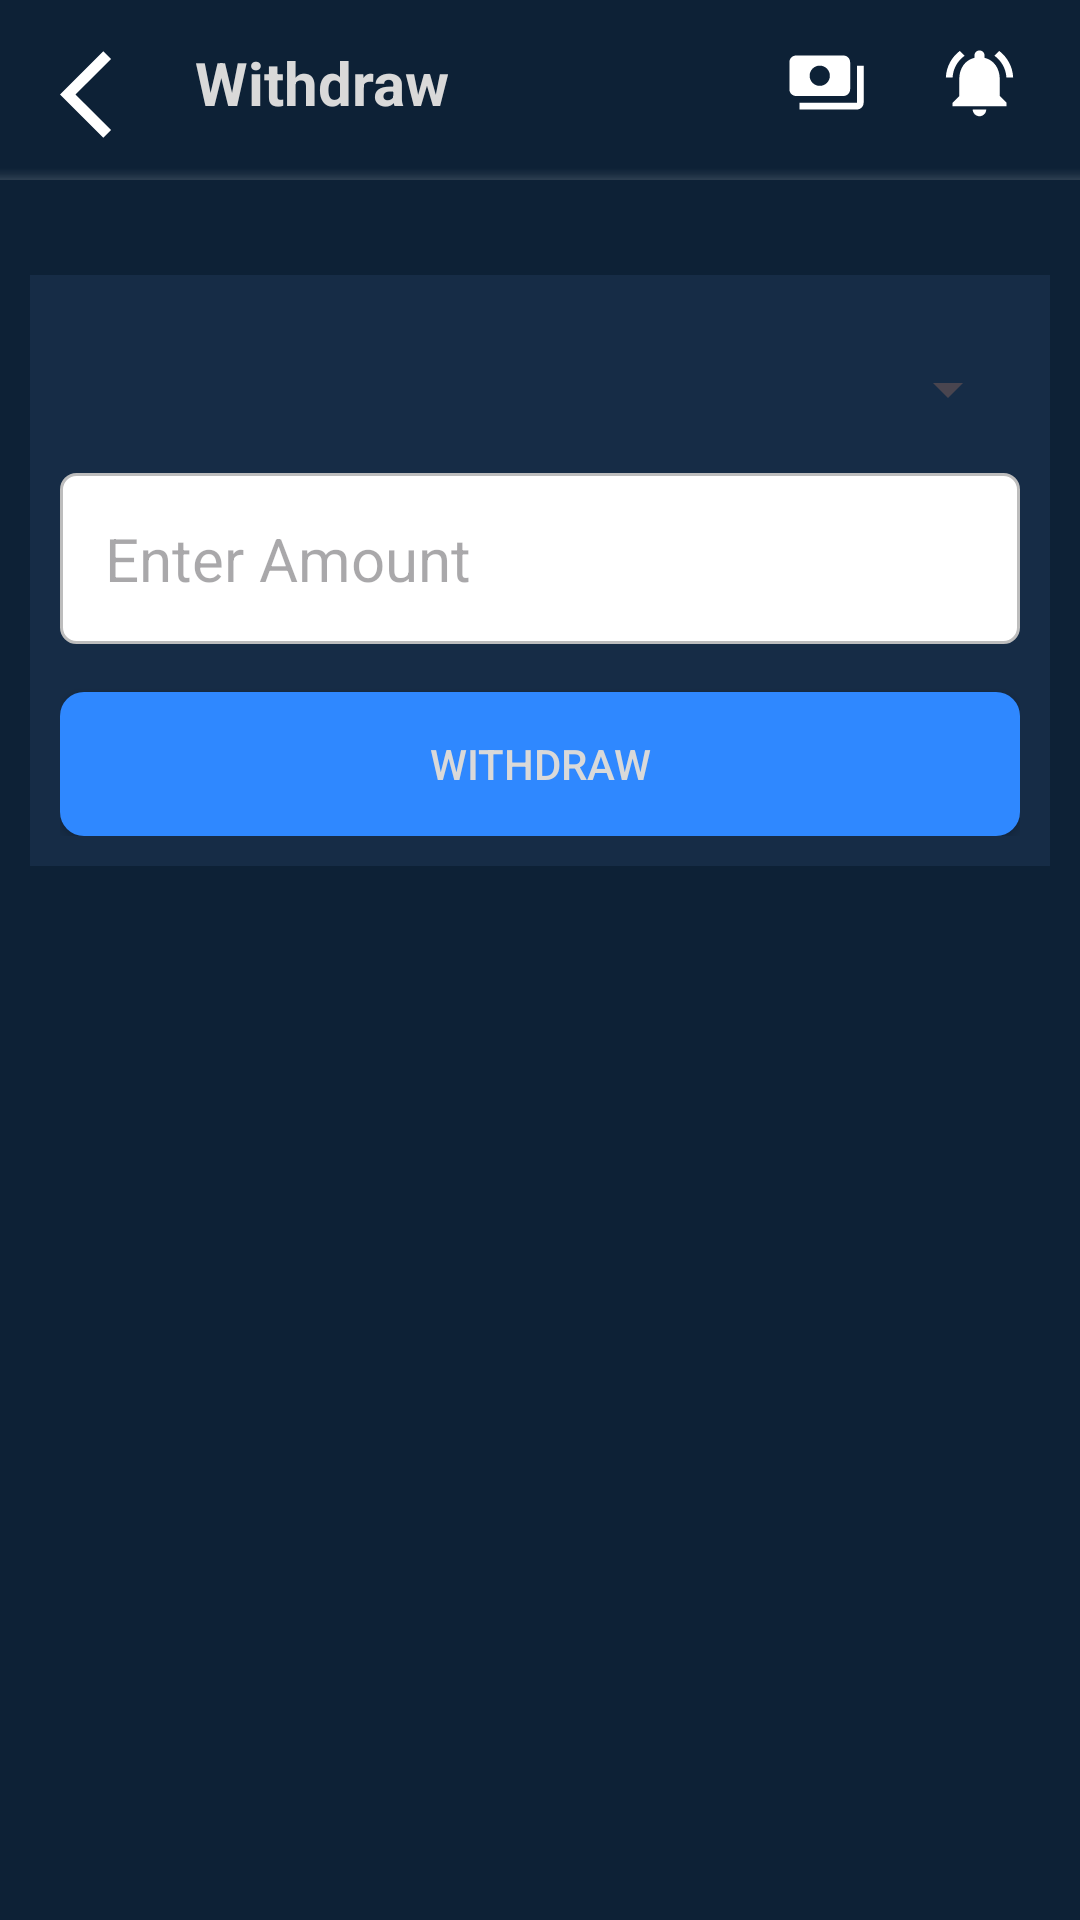

Where icons sit on this 1080x1920 app screen, as (x1, y1, x2, y2):
arrow back: (60, 51, 111, 138)
notifications: (946, 50, 1013, 117)
payments: (789, 55, 864, 110)
